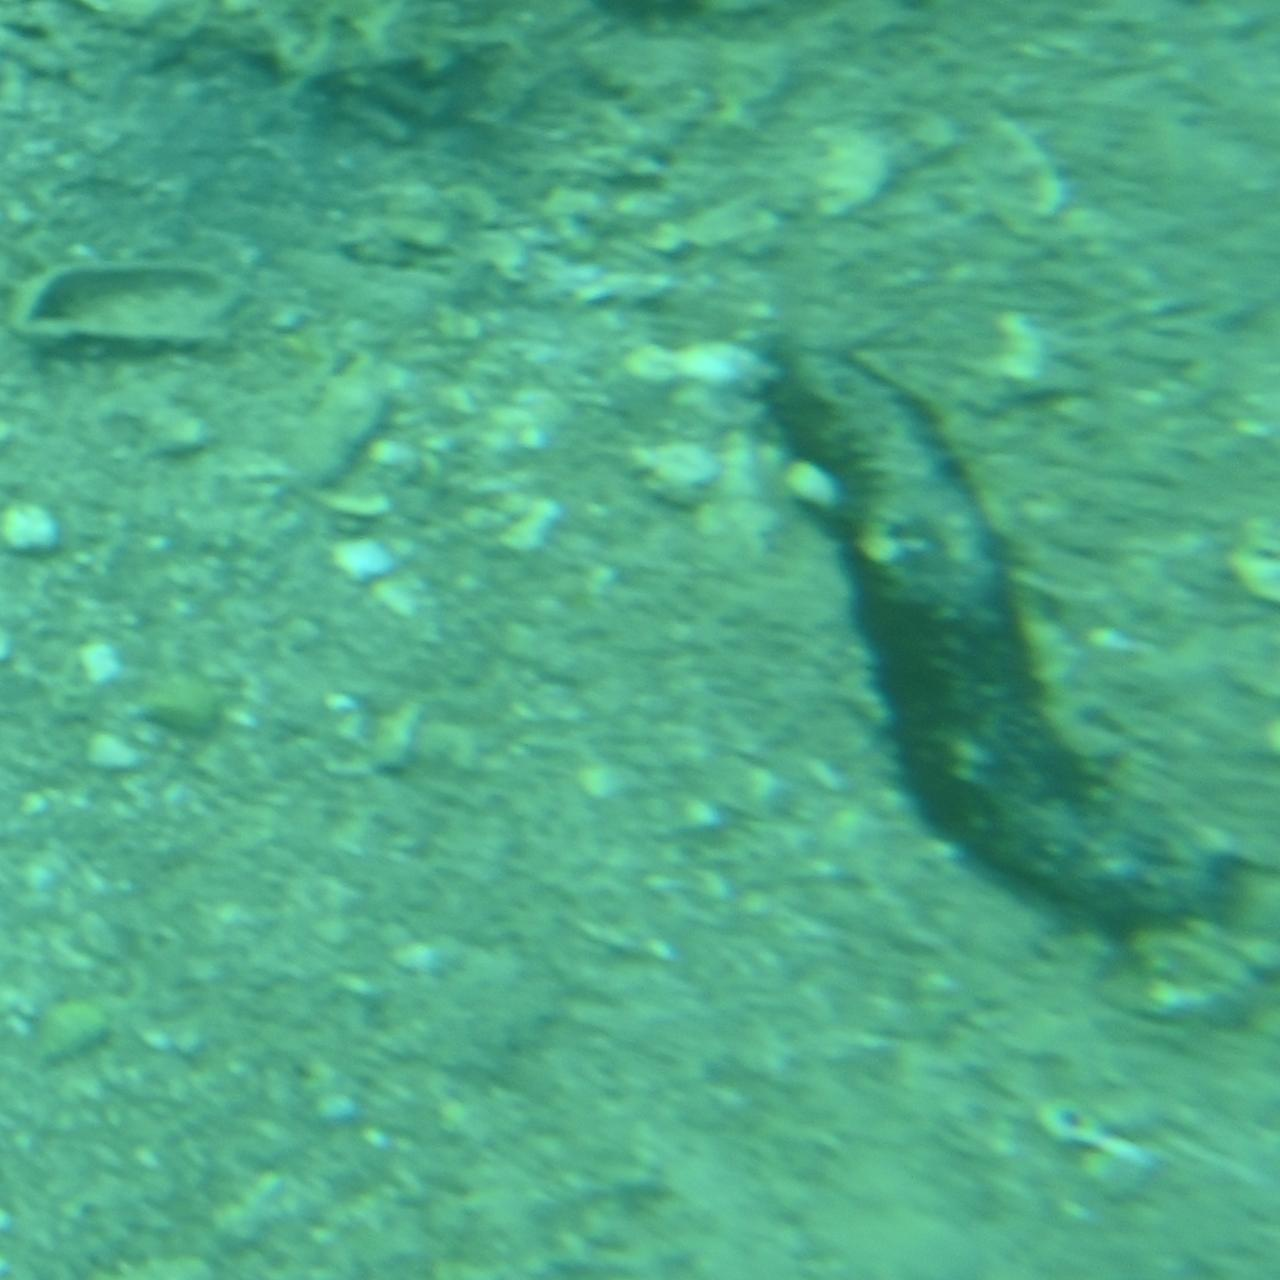Holothuria tubulosa: (755, 320, 1265, 960)
